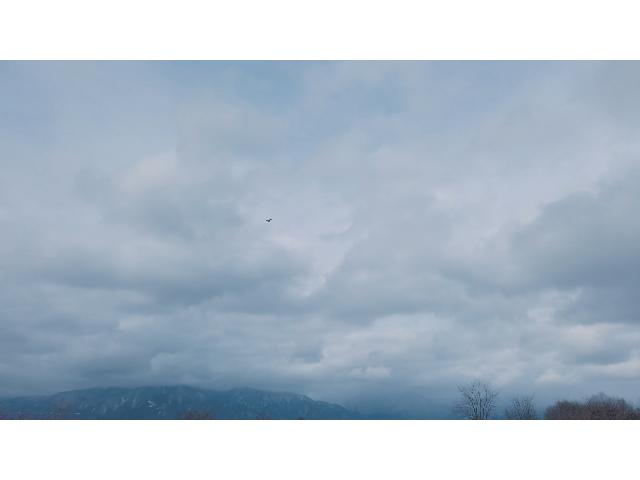Anti-Drone: (264, 215, 274, 226)
